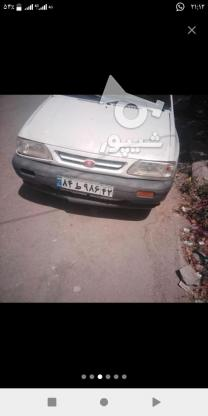car: (57, 175, 114, 197)
